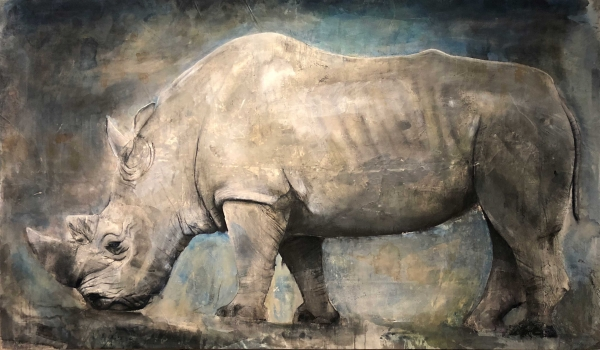Rhinoceros: (8, 17, 586, 341)
